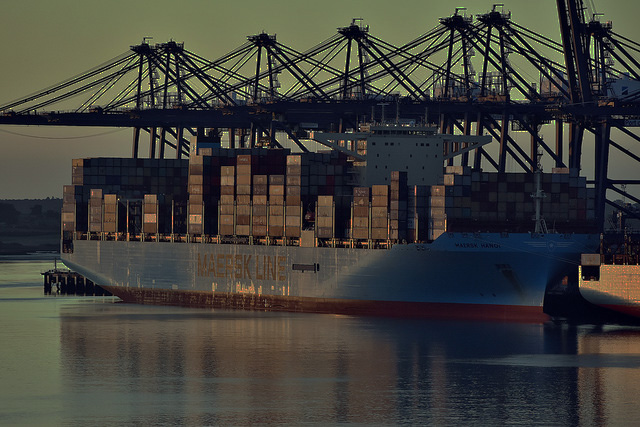container_ship: (63, 114, 594, 324)
